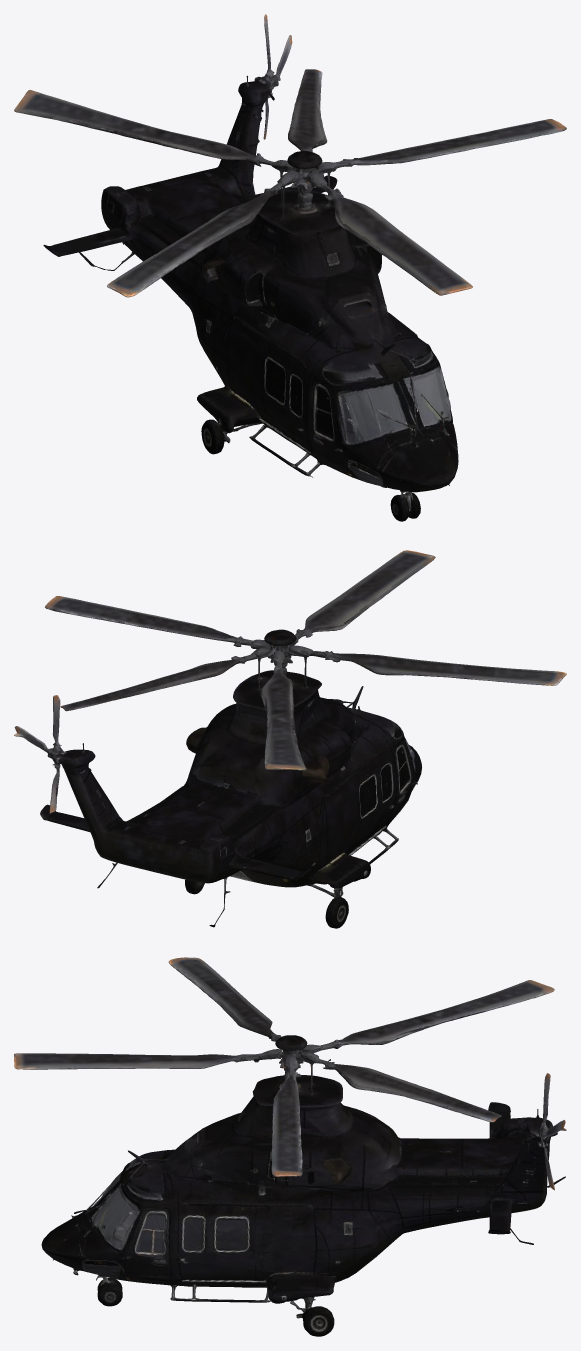
The model's file is helicopter.glb.
The picture shows the model from 3 angles, top to bottom: view 1: azimuth 30°, elevation 25°; view 2: azimuth 150°, elevation 25°; view 3: azimuth 270°, elevation 25°; orthographic projection. The views are drawn at different scales.
Visible parts, largest first — view 1: world; view 2: world; view 3: world.
Part boxes in pixels (x1,y1,x2,y2): world: (14, 14, 566, 521); world: (14, 550, 566, 928); world: (14, 957, 566, 1336).
Size of the model in its own units: 1.9 by 1.09 by 1.99.
1 material, 1 textured.
